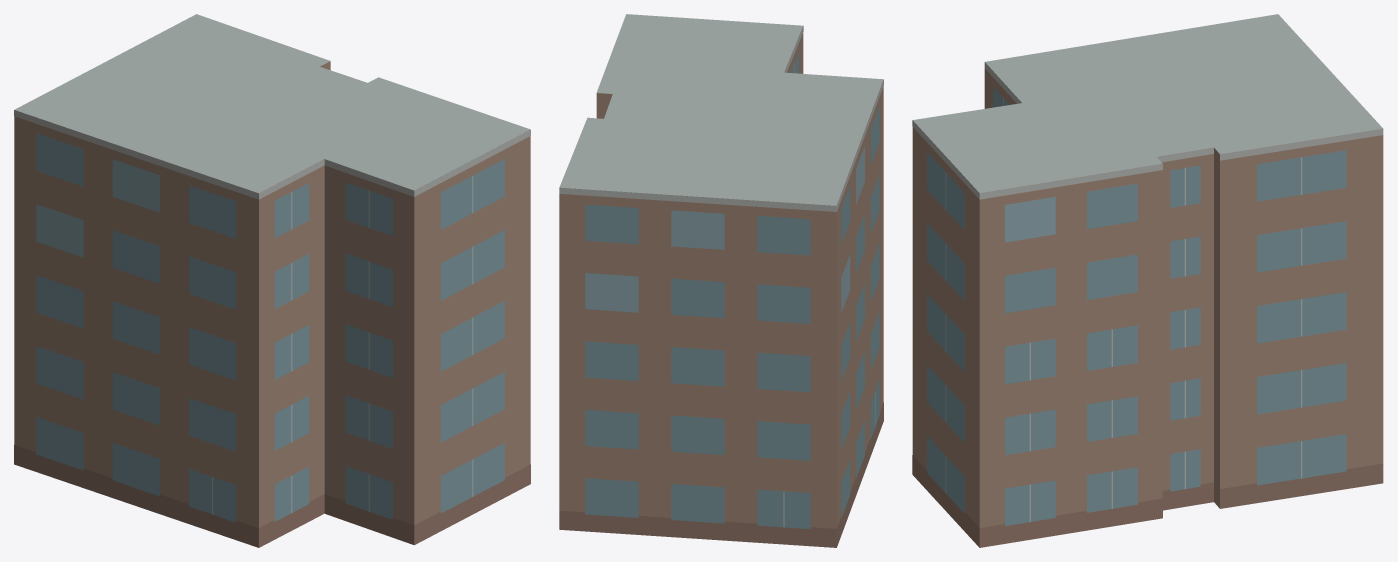
Rendered from survey-upis-32997802.glb.
3 views of the same model, side by side, from view 1: azimuth 30°, elevation 25°; view 2: azimuth 150°, elevation 25°; view 3: azimuth 270°, elevation 25° (orthographic). The views are drawn at different scales.
Parts seen in each view (by area): view 1: survey-upis-32997802.tmp; view 2: survey-upis-32997802.tmp; view 3: survey-upis-32997802.tmp.
Part boxes in pixels (x1,y1,x2,y2): survey-upis-32997802.tmp: (14,14,530,547); survey-upis-32997802.tmp: (559,14,883,547); survey-upis-32997802.tmp: (912,14,1383,547).
Size of the model in its own units: 14.78 by 13.62 by 16.4.
